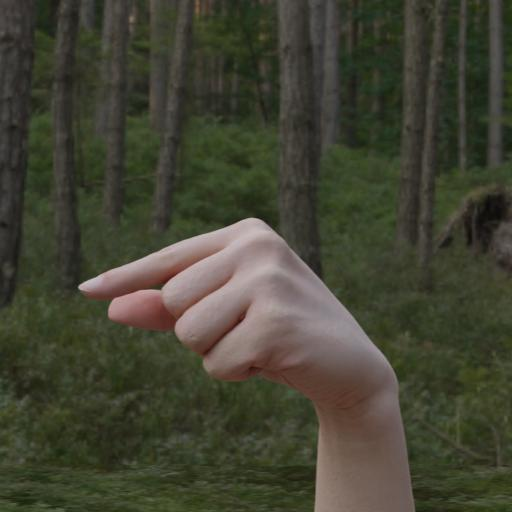G: (70, 202, 423, 434)
